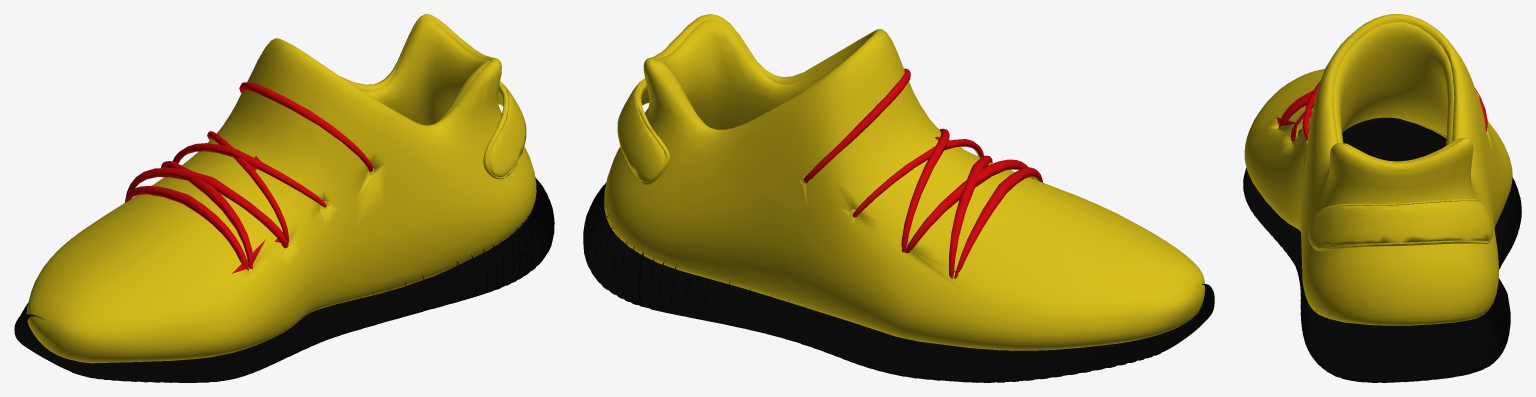
File: ADIDAS.obj
The picture shows the model from 3 angles, left to right: view 1: azimuth 30°, elevation 25°; view 2: azimuth 150°, elevation 25°; view 3: azimuth 270°, elevation 25°; orthographic projection. The views are drawn at different scales.
Parts seen in each view (by area): view 1: Oberschuh, Sohle; view 2: Oberschuh, Sohle; view 3: Oberschuh, Sohle.
Part boxes in pixels (left/top/right/bottom): Oberschuh: left=26, top=14, right=536, bottom=363; Sohle: left=14, top=177, right=554, bottom=382; Oberschuh: left=604, top=14, right=1205, bottom=350; Sohle: left=583, top=182, right=1214, bottom=382; Oberschuh: left=1244, top=14, right=1512, bottom=325; Sohle: left=1243, top=117, right=1521, bottom=382.
Bounding box in the file's own units: 2.25 × 1.05 × 1.01.
